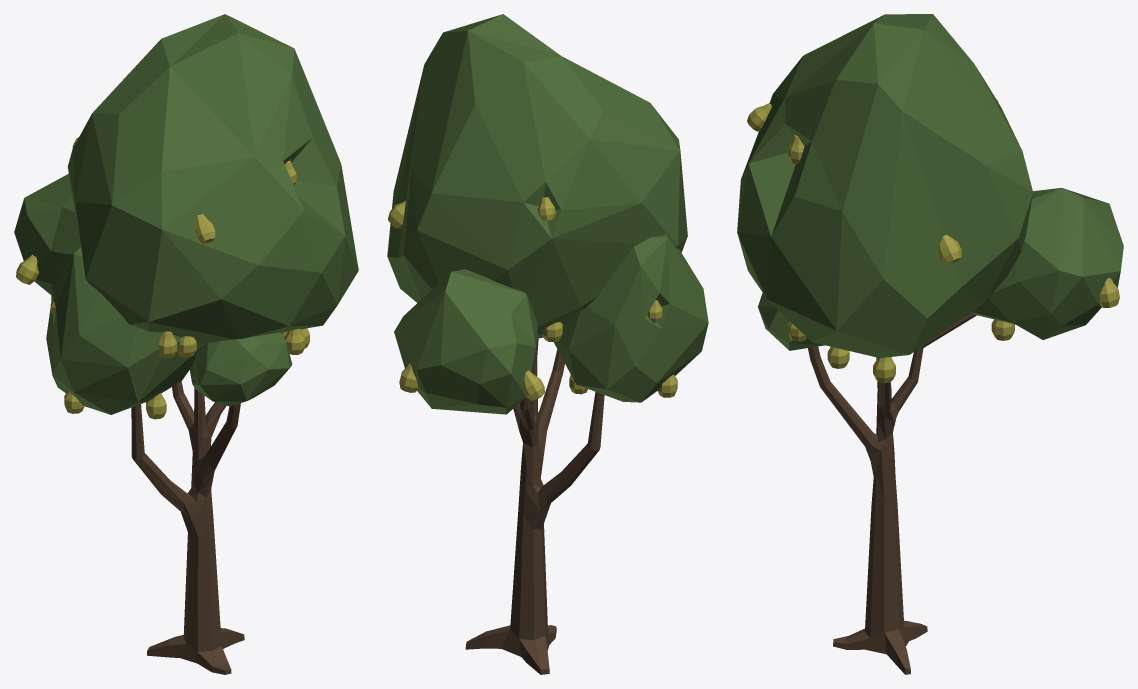
File: SM_Envr_Nature_Farm_Tree_Guava_Mature.fbx
3 renders of one model, left to right at view 1: azimuth 30°, elevation 25°; view 2: azimuth 150°, elevation 25°; view 3: azimuth 270°, elevation 25°, orthographic. The views are drawn at different scales.
Visible parts, largest first — view 1: SM_Envr_Nature_Farm_Tree_Guava_Mature; view 2: SM_Envr_Nature_Farm_Tree_Guava_Mature; view 3: SM_Envr_Nature_Farm_Tree_Guava_Mature.
Part boxes in pixels (left/top/right/bottom): SM_Envr_Nature_Farm_Tree_Guava_Mature: left=14, top=14, right=358, bottom=674; SM_Envr_Nature_Farm_Tree_Guava_Mature: left=387, top=14, right=708, bottom=674; SM_Envr_Nature_Farm_Tree_Guava_Mature: left=737, top=14, right=1123, bottom=674.
Size of the model in its own units: 291 by 586 by 320.
